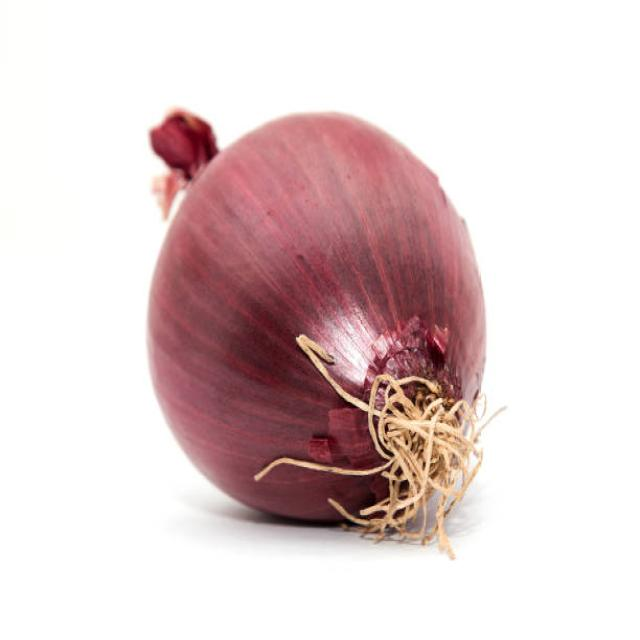onion: (125, 116, 508, 550)
